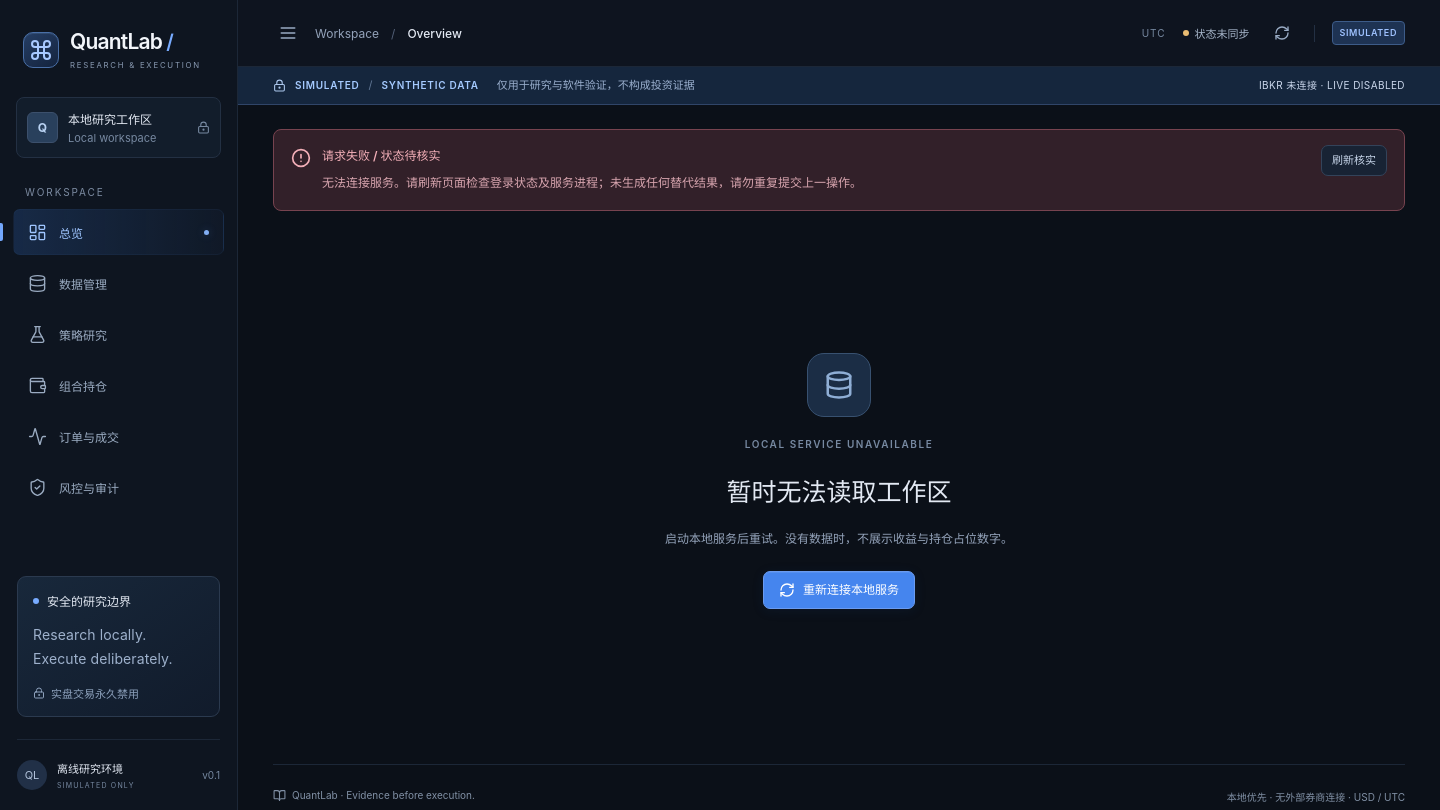
Test case: local console and honest state › recovers from a disconnected API only on explicit refresh
Expected: the heading "暂时无法读取工作区" is shown, [726,472,952,508]
Expected: the message shows "未生成任何替代结果", [322,175,862,190]
Click the button "重新连接本地服务".
click(839, 590)  # box [763,571,915,609]
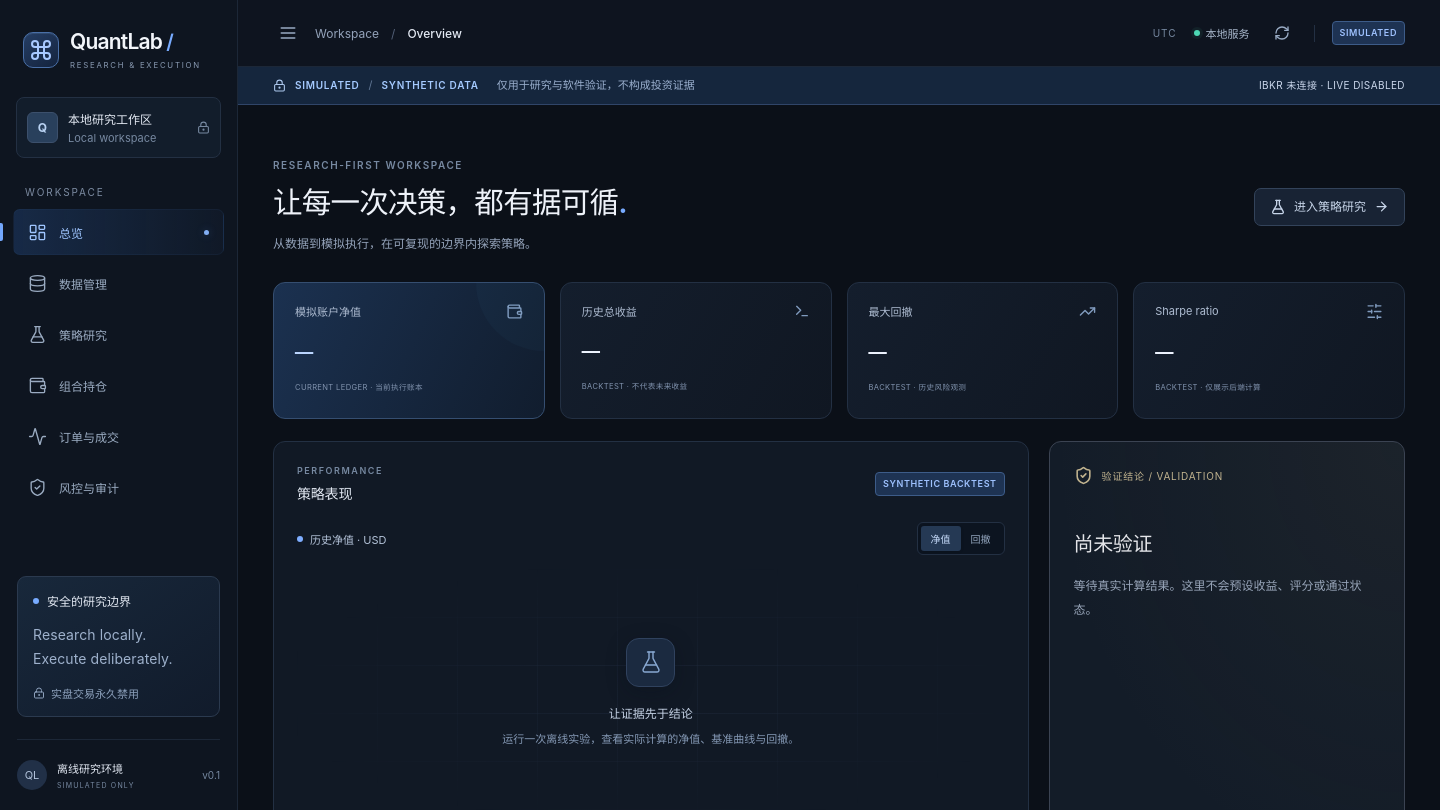
Expected: the heading "尚未验证" is shown, [1074,528,1152,560]
